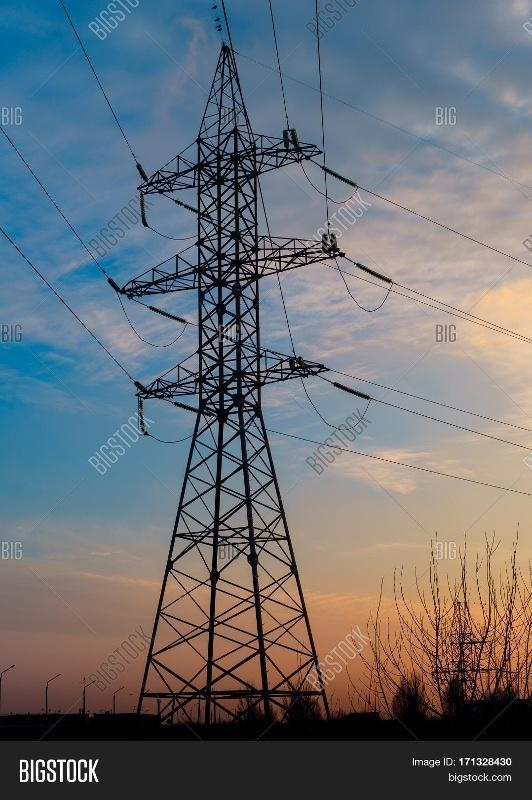power_tower: (124, 40, 365, 726)
